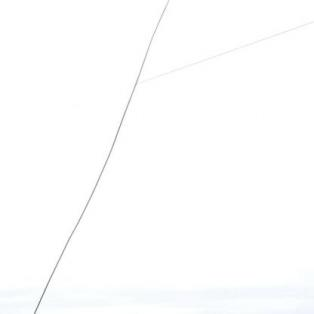Poste: (299, 0, 314, 314)
